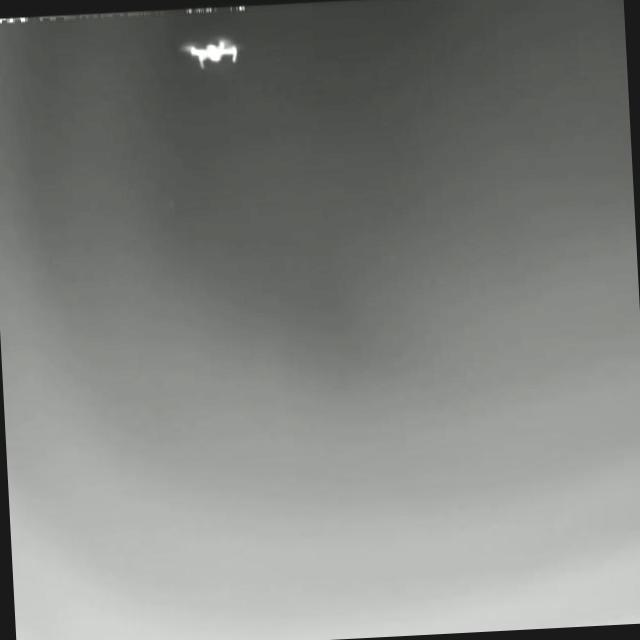DRONE: (175, 35, 248, 72)
